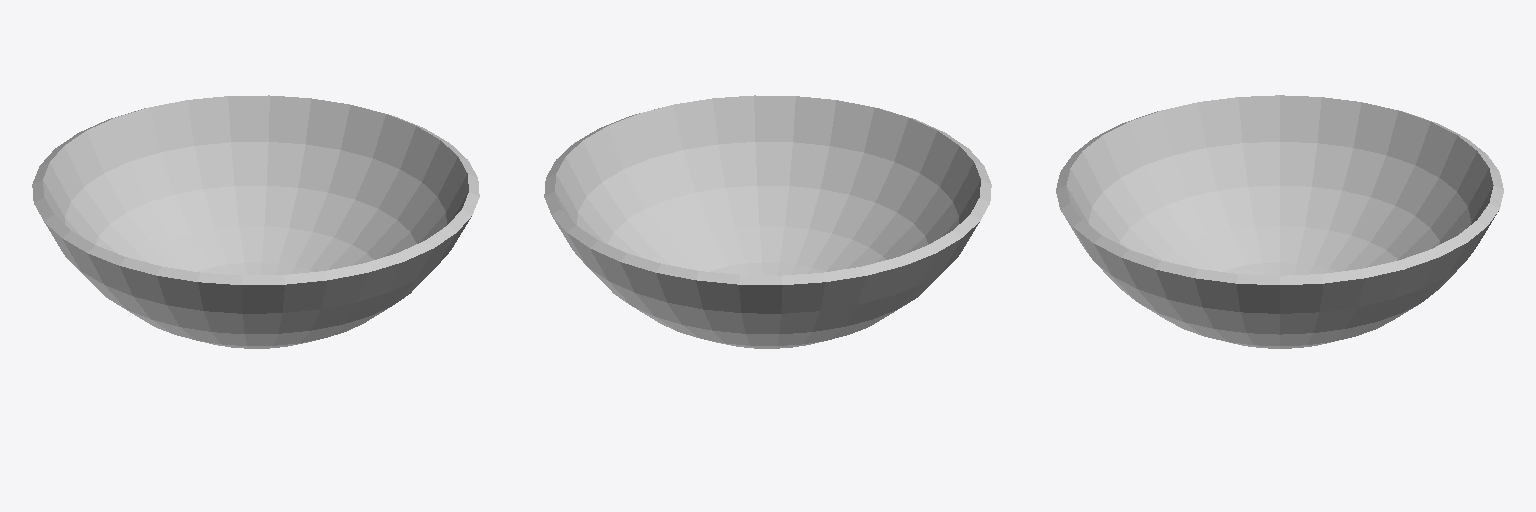
The model's file is bowl.obj.
3 views of the same model, side by side, from view 1: azimuth 30°, elevation 25°; view 2: azimuth 150°, elevation 25°; view 3: azimuth 270°, elevation 25° (orthographic).
Parts seen in each view (by area): view 1: Sphere; view 2: Sphere; view 3: Sphere.
Part boxes in pixels (left/top/right/bottom): Sphere: left=32, top=95, right=479, bottom=348; Sphere: left=544, top=95, right=991, bottom=348; Sphere: left=1056, top=95, right=1503, bottom=348.
Size of the model in its own units: 1.85 by 0.6409 by 1.85.